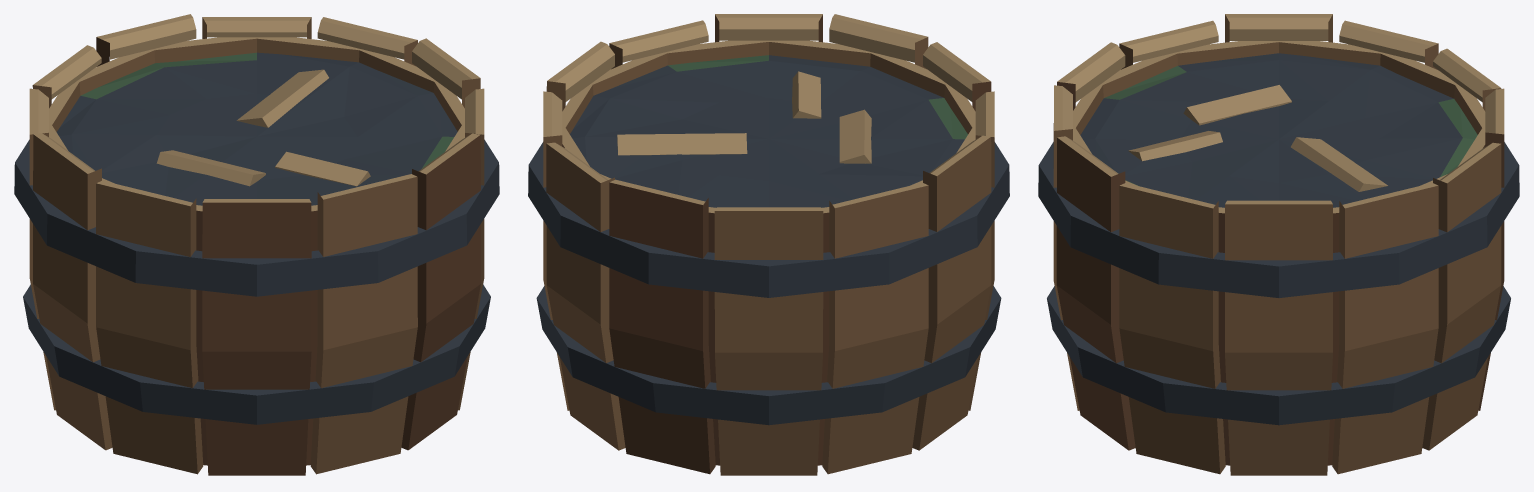
The model's file is quench-barrel-0c78fd.glb.
The picture shows the model from 3 angles, left to right: view 1: azimuth 30°, elevation 25°; view 2: azimuth 150°, elevation 25°; view 3: azimuth 270°, elevation 25°; orthographic projection.
Parts seen in each view (by area): view 1: quench-barrel-body, offcut-billets; view 2: quench-barrel-body, offcut-billets; view 3: quench-barrel-body, offcut-billets.
Boxes of the visible parts, x1=… form: quench-barrel-body: x1=14, y1=14, x2=499, y2=475; offcut-billets: x1=156, y1=69, x2=370, y2=186; quench-barrel-body: x1=528, y1=14, x2=1009, y2=475; offcut-billets: x1=617, y1=71, x2=871, y2=163; quench-barrel-body: x1=1038, y1=14, x2=1519, y2=475; offcut-billets: x1=1128, y1=85, x2=1387, y2=191.
Bounding box in the file's own units: 1.08 × 0.7 × 1.08.
